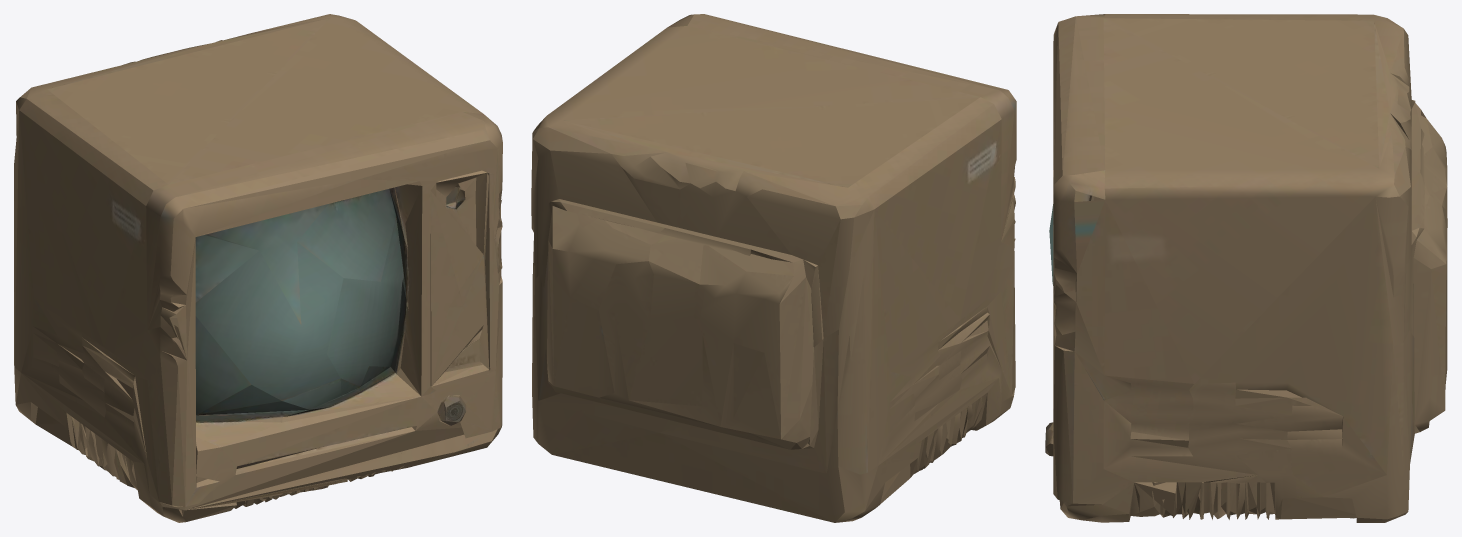
The model's file is monitor.glb.
3 renders of one model, left to right at view 1: azimuth 30°, elevation 25°; view 2: azimuth 150°, elevation 25°; view 3: azimuth 270°, elevation 25°, orthographic. The views are drawn at different scales.
Bounding box in the file's own units: 1.9 × 1.77 × 1.82.
1 material, 1 textured.
